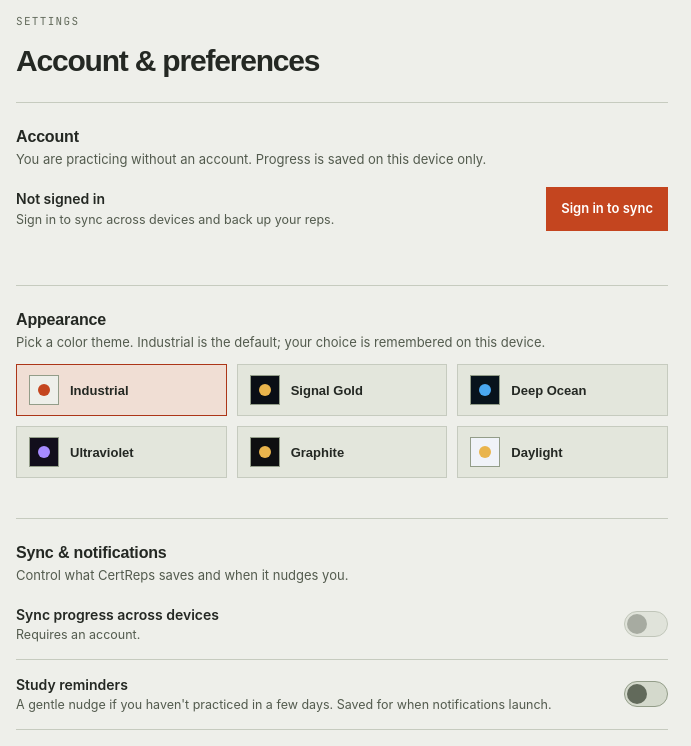
Test case: SettingsClient › persists a notification toggle to the prefs store and toasts
Click the switch named "Study reminders".
click(646, 694)  # box [624, 681, 668, 707]
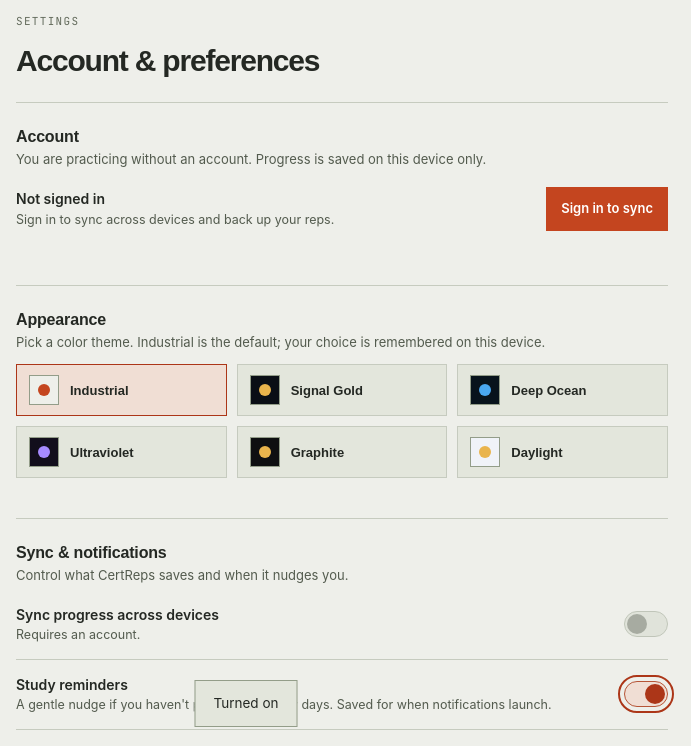
Expected: the text "Turned on" is shown, [194, 680, 298, 727]
